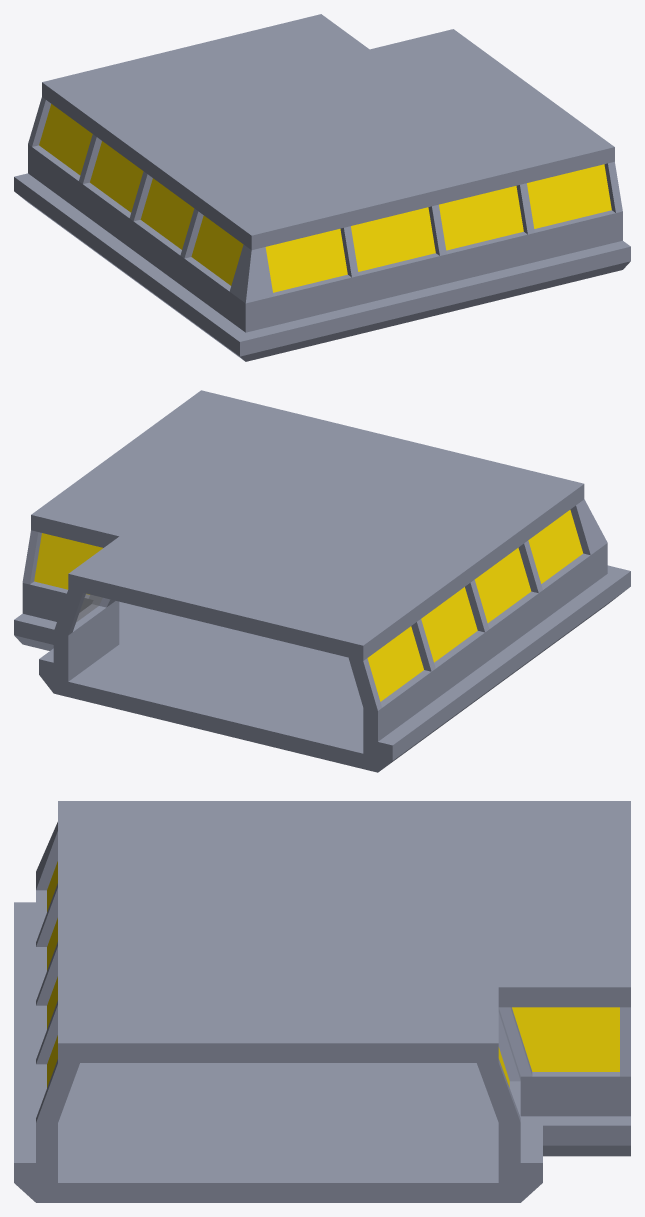
The model's file is tunnel_0005_turn_v01.gltf.
3 renders of one model, top to bottom at view 1: azimuth 30°, elevation 25°; view 2: azimuth 150°, elevation 25°; view 3: azimuth 270°, elevation 25°, orthographic. The views are drawn at different scales.
Parts seen in each view (by area): view 1: massing, group_2.002, group_2.003, group_2.004, group_2.005, group_2.009, group_2.007, group_2.008, group_2.006; view 2: massing, group_2.009, group_2.007, group_2.008, group_2.006, group_2.001; view 3: massing, group_2.
Boxes of the visible parts, x1,y1,x2,y2 form: massing: (14,14,630,361); group_2.002: (527,164,611,228); group_2.003: (439,186,523,250); group_2.004: (351,207,435,271); group_2.005: (265,229,347,292); group_2.009: (140,178,194,249); group_2.007: (39,104,92,175); group_2.008: (90,141,143,212); group_2.006: (191,215,243,285); massing: (14,390,630,772); group_2.009: (474,547,531,622); group_2.007: (367,626,423,701); group_2.008: (421,587,477,662); group_2.006: (528,510,583,583); group_2.001: (34,533,102,594); massing: (14,801,630,1202); group_2: (512,1007,619,1071).
Size of what is drawn, in the model's own units: 14 by 4 by 14.
